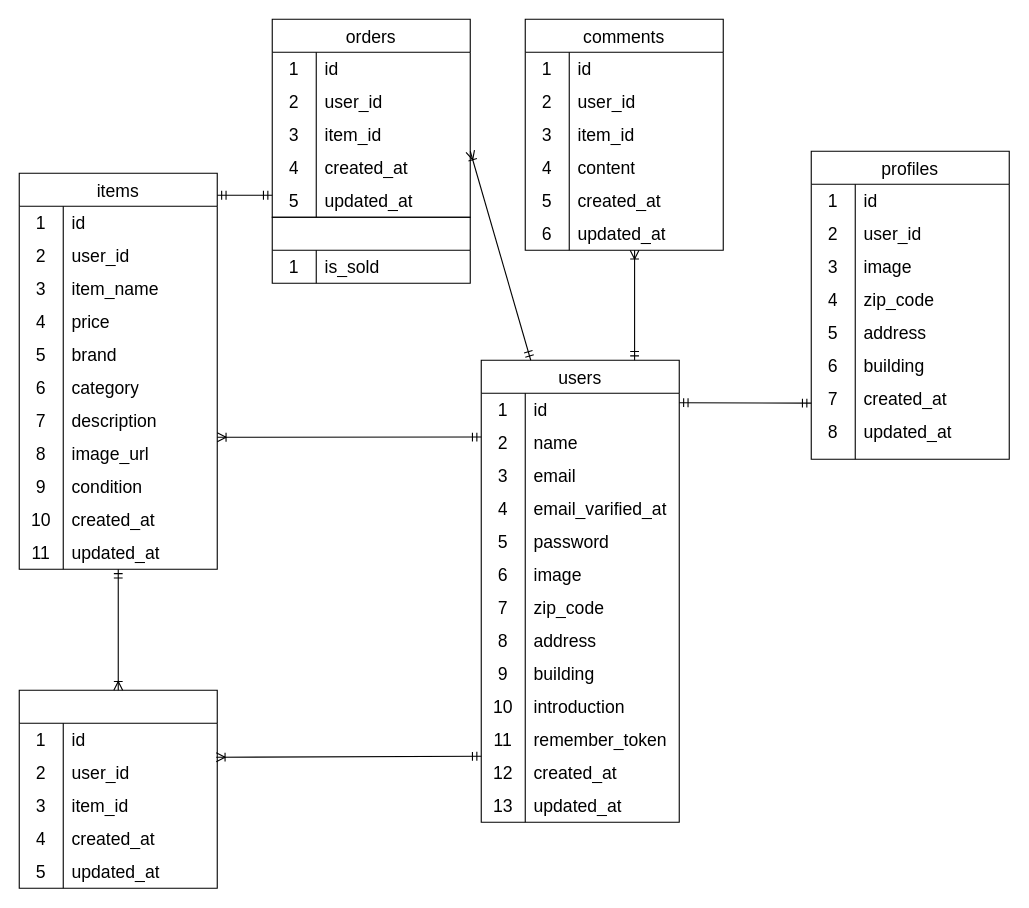
The diagram is 1029 pixels wide and 908 high, and some of its shapes have lost their labels. Each missing label, with the box of its shape:
add_is_sold_to_items: (271, 216, 470, 283)
favorite: (18, 689, 217, 888)
